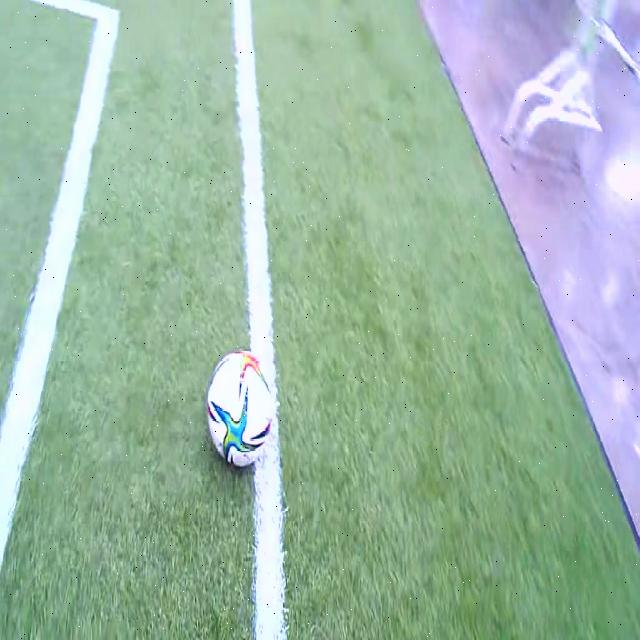ball: (208, 349, 272, 466)
